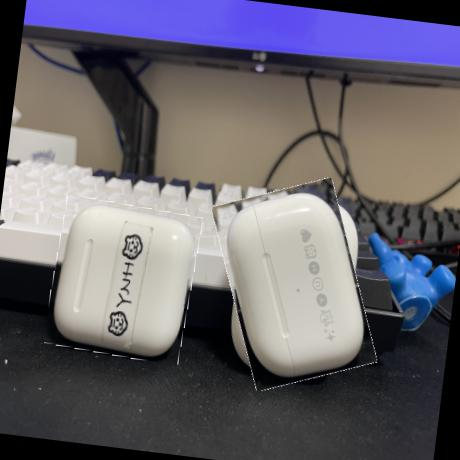airpod2: (44, 196, 202, 365)
airpod3: (206, 174, 382, 396)
